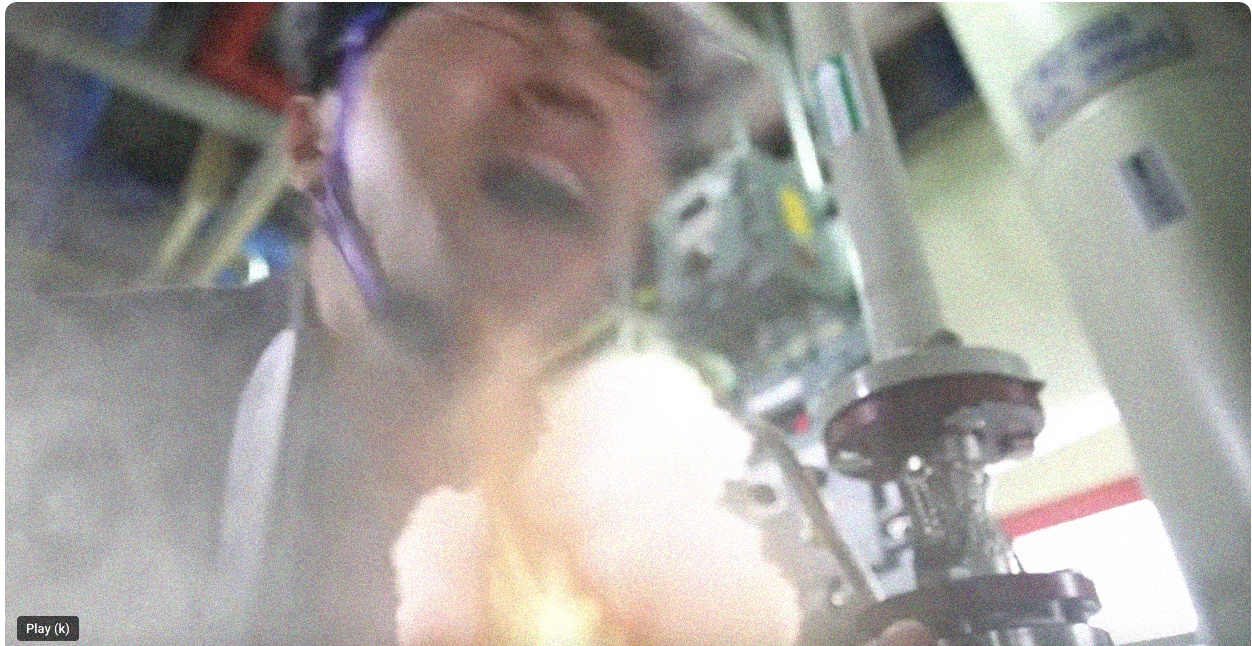smoke: (314, 323, 841, 646)
